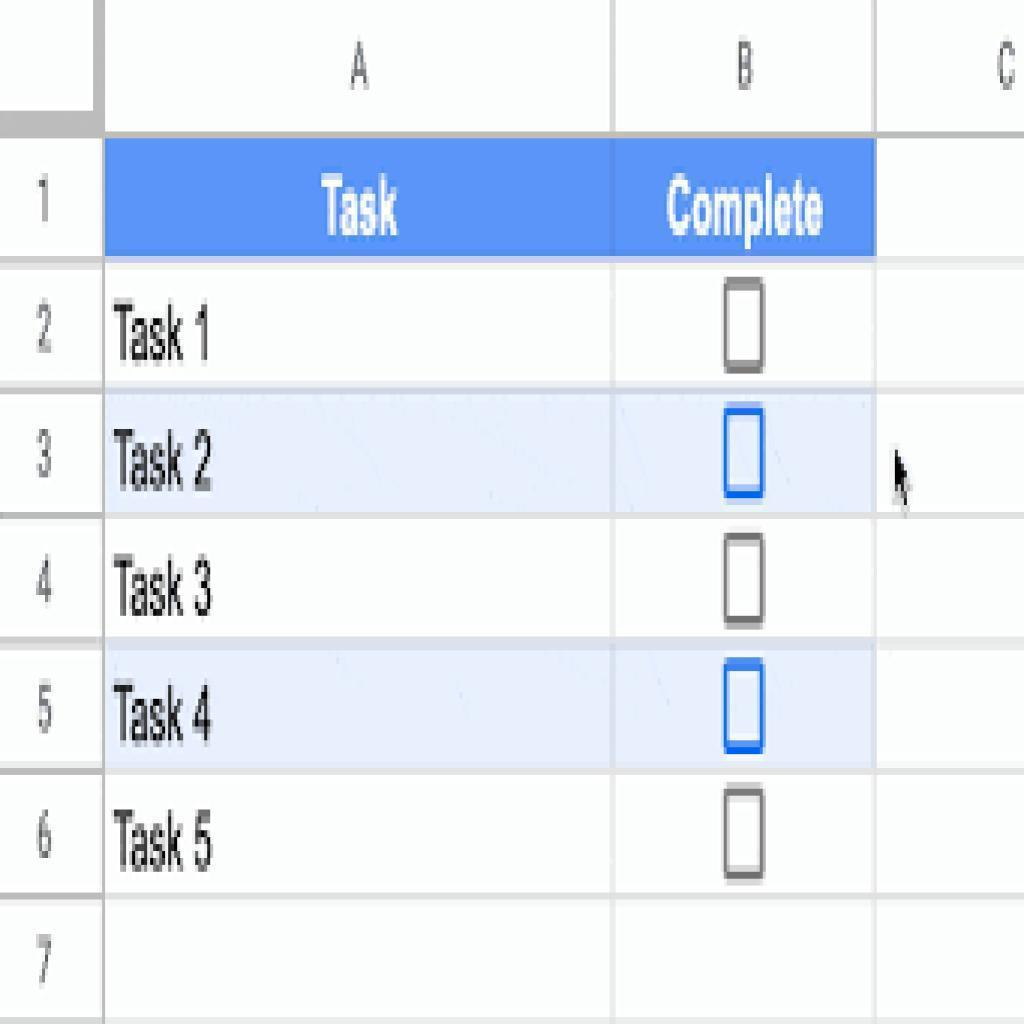checkbox: (720, 658, 767, 755), (722, 405, 767, 501), (721, 533, 766, 627), (722, 785, 766, 878), (725, 277, 766, 375)
